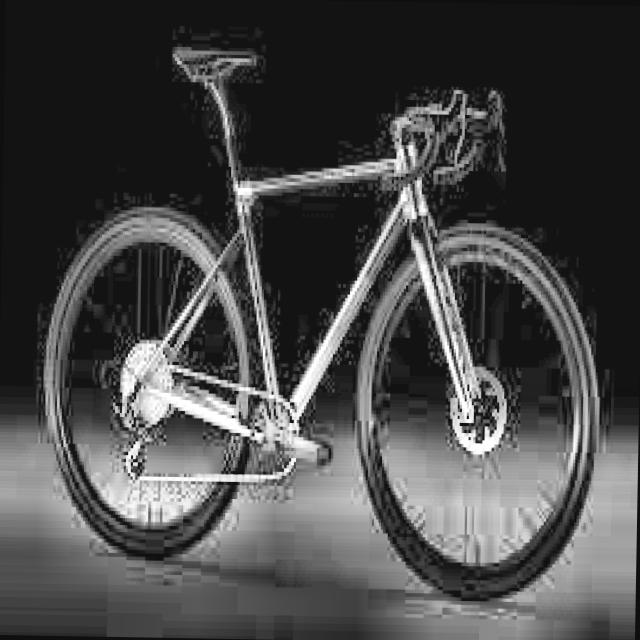bicycle: (38, 31, 603, 606)
